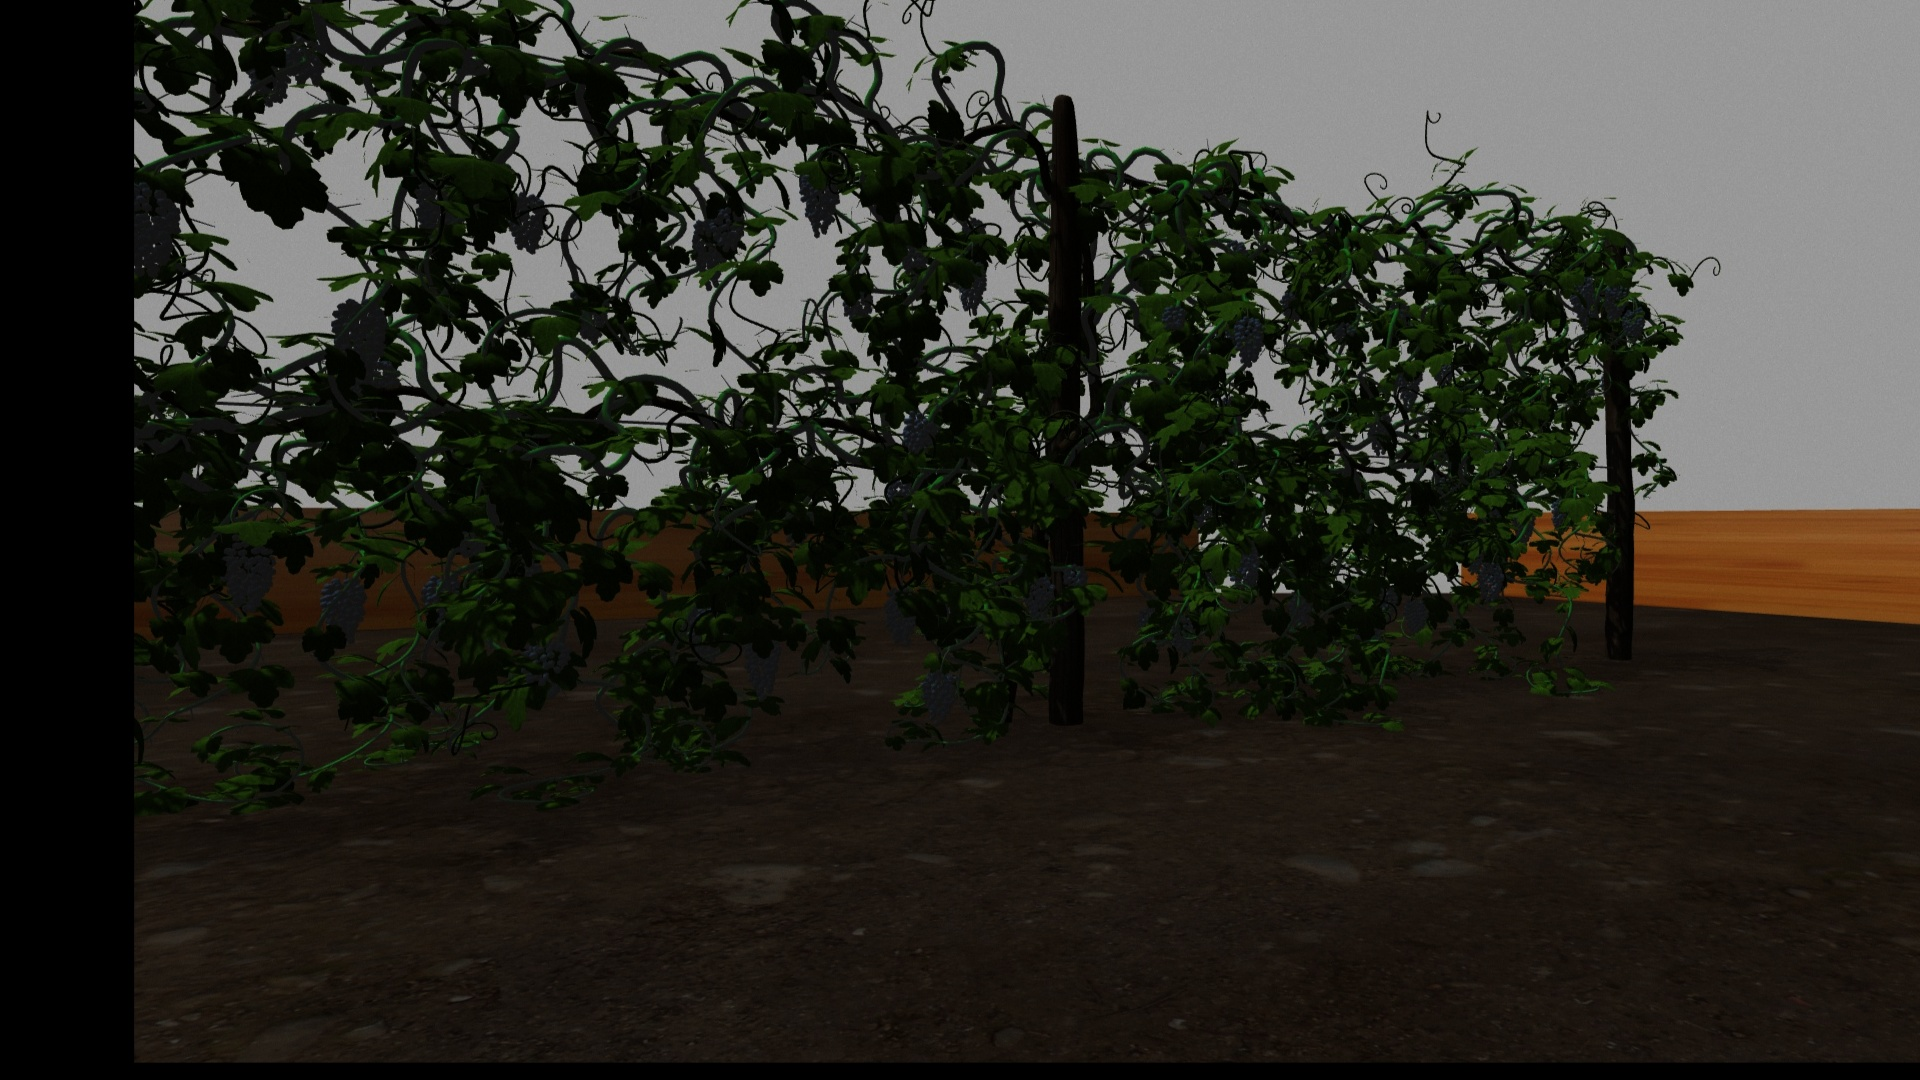grape: (330, 299, 386, 378), (222, 537, 277, 611), (137, 182, 181, 276), (320, 578, 369, 644), (411, 179, 463, 237), (742, 637, 783, 702), (508, 191, 549, 255), (800, 171, 839, 237), (691, 222, 728, 287), (923, 662, 959, 727), (884, 588, 920, 646), (285, 38, 327, 87), (248, 66, 291, 107), (525, 636, 570, 674), (1233, 313, 1265, 367), (1571, 277, 1600, 330), (960, 261, 989, 314), (903, 409, 936, 454), (711, 208, 745, 251), (1025, 576, 1055, 622), (1476, 560, 1506, 605), (1402, 593, 1429, 634), (1396, 367, 1424, 407), (1234, 545, 1259, 589), (1604, 280, 1630, 322), (1367, 413, 1393, 455), (1621, 309, 1648, 343), (1172, 618, 1196, 655), (1287, 596, 1312, 625), (1160, 305, 1187, 330), (1062, 562, 1088, 585), (1335, 320, 1356, 342)
